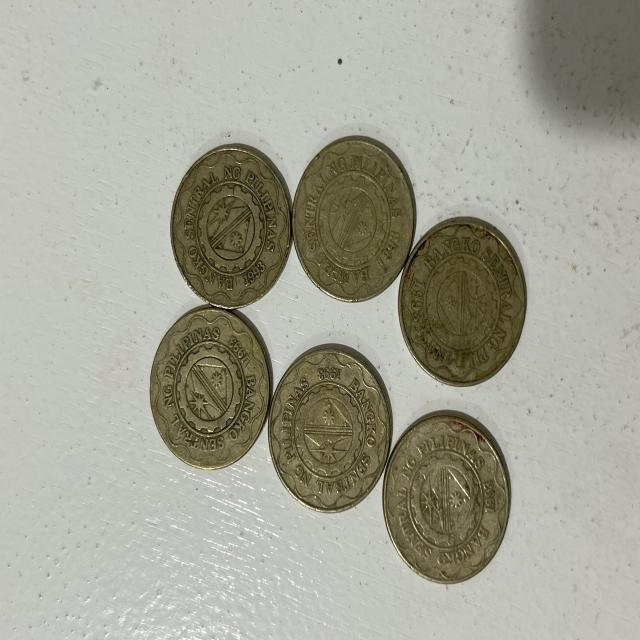5_Old_Back: (383, 404, 512, 582), (401, 210, 523, 397), (143, 293, 265, 470), (270, 340, 394, 514), (168, 137, 293, 300), (300, 135, 414, 308)
